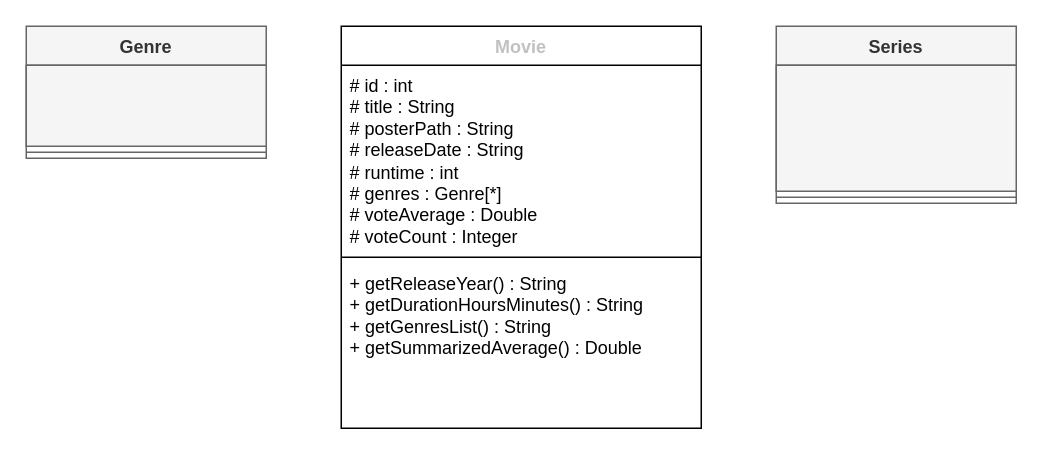
The diagram is 1043 pixels wide and 459 high, and some of its shapes have lost their labels. Each missing label, with the centre of its shape:
"# id : int # name : String" goes at point (145, 105).
"# id : int # name : String # posterPath : String" goes at point (895, 127).
